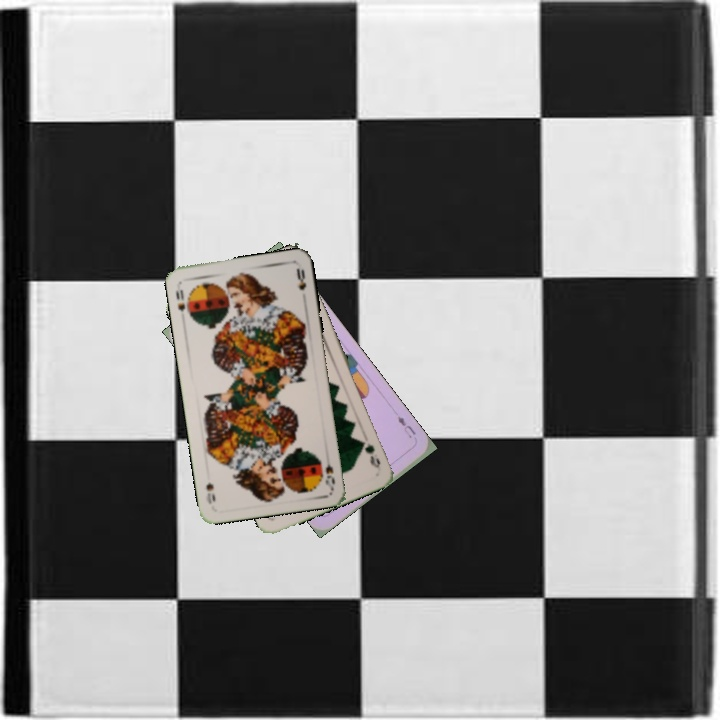EU: (393, 412, 419, 441)
G9: (357, 436, 383, 470)
SO: (321, 460, 337, 490), (172, 285, 188, 314)
